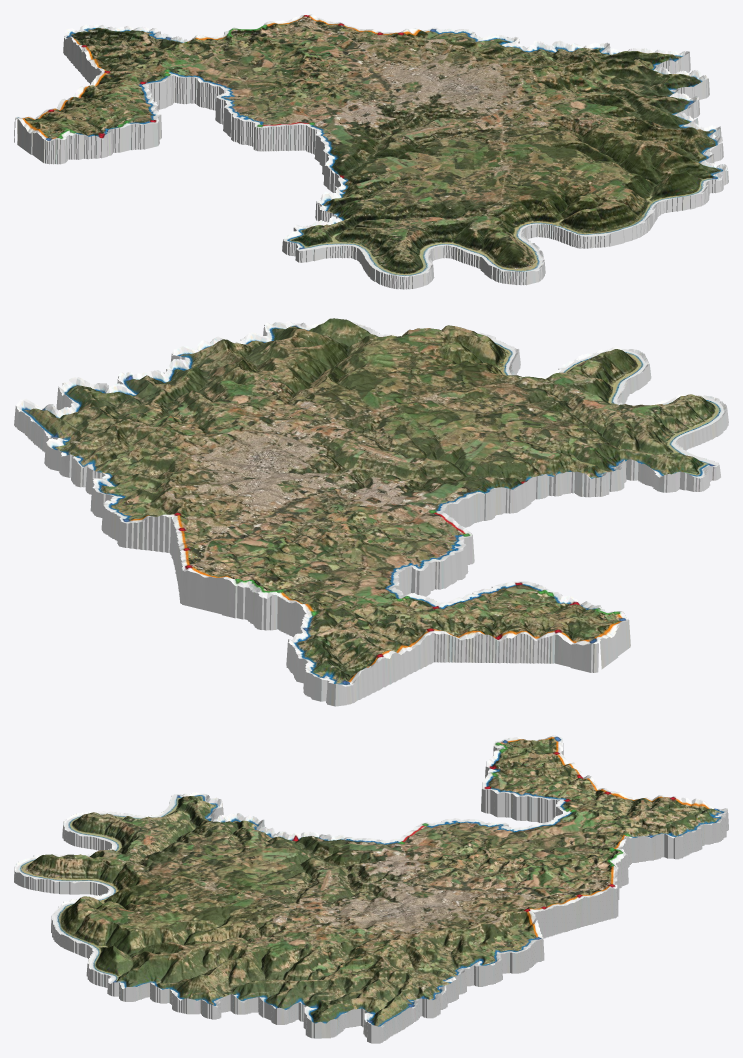
3 renders of one model, top to bottom at view 1: azimuth 30°, elevation 25°; view 2: azimuth 150°, elevation 25°; view 3: azimuth 270°, elevation 25°, orthographic. The views are drawn at different scales.
Size of the model in its own units: 1 by 0.0519 by 1.07.
1 material, 1 textured.
